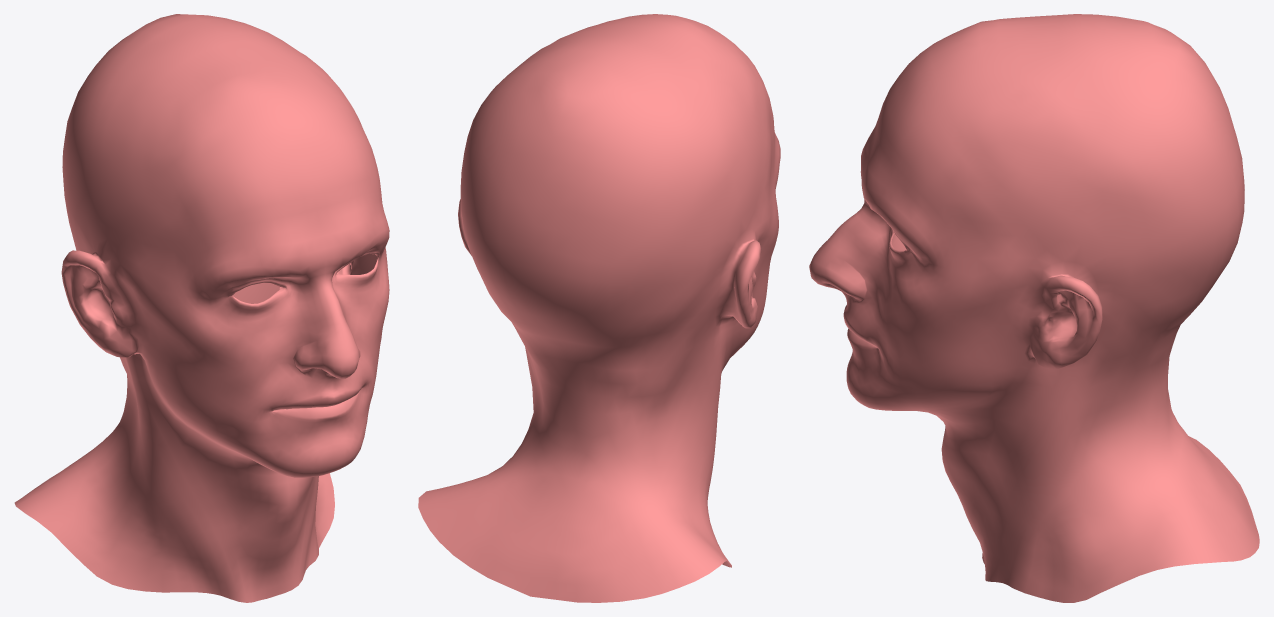
Rendered from AB_Blendshapes.FBX.
3 views of the same model, side by side, from view 1: azimuth 30°, elevation 25°; view 2: azimuth 150°, elevation 25°; view 3: azimuth 270°, elevation 25° (orthographic). The views are drawn at different scales.
Parts seen in each view (by area): view 1: AB_W_Neutral; view 2: AB_W_Neutral; view 3: AB_W_Neutral.
Boxes of the visible parts, x1,y1,x2,y2 form: AB_W_Neutral: (14,14,389,602); AB_W_Neutral: (418,14,780,602); AB_W_Neutral: (809,14,1259,602).
Size of the model in its own units: 18.74 by 31.71 by 24.01.
